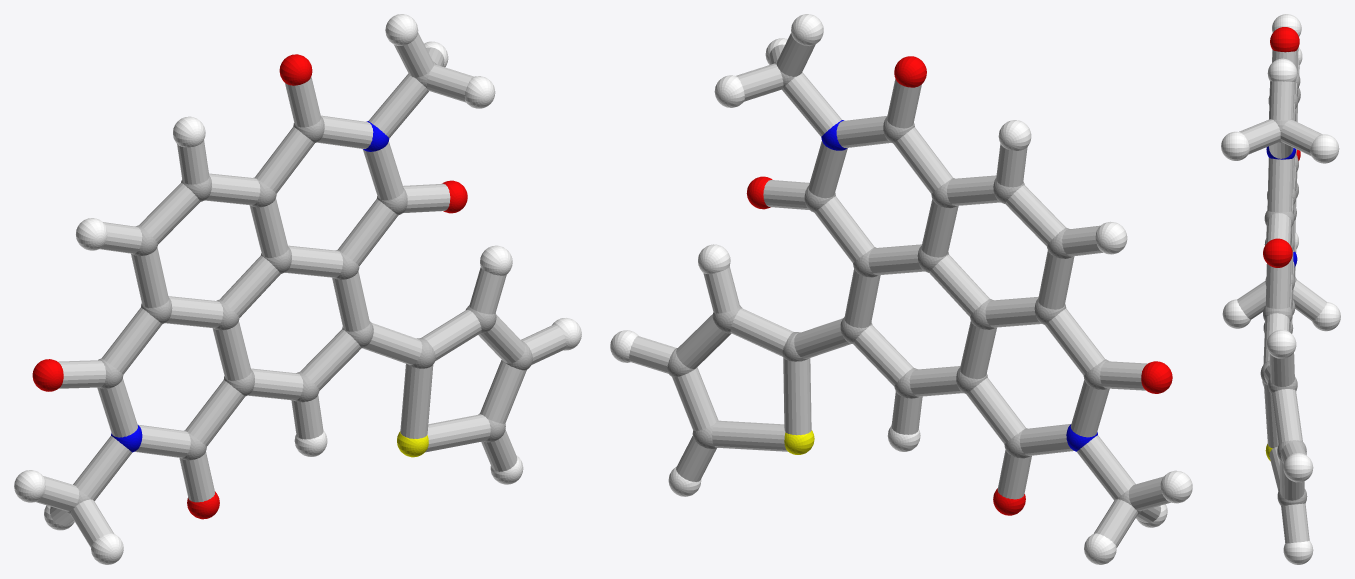
The model's file is Dimethyl_Naphthalene_Dicarboximide_Phi_10_Theta_0_Thiophene.glb.
3 views of the same model, side by side, from view 1: azimuth 30°, elevation 25°; view 2: azimuth 150°, elevation 25°; view 3: azimuth 270°, elevation 25° (orthographic). The views are drawn at different scales.
Visible parts, largest first — view 1: grp14119, grp7241, grp1, grp12309, grp11585; view 2: grp14119, grp7241, grp1, grp12309, grp11585; view 3: grp14119, grp7241, grp1, grp12309, grp11585.
Part boxes in pixels (left/top/right/bottom): grp14119: left=36, top=32, right=566, bottom=547; grp7241: left=14, top=14, right=581, bottom=564; grp1: left=65, top=61, right=532, bottom=514; grp12309: left=32, top=54, right=467, bottom=519; grp11585: left=111, top=121, right=389, bottom=452; grp14119: left=629, top=33, right=1170, bottom=547; grp7241: left=610, top=14, right=1192, bottom=564; grp1: left=667, top=60, right=1142, bottom=514; grp12309: left=746, top=56, right=1172, bottom=515; grp11585: left=821, top=120, right=1097, bottom=451; grp14119: left=1237, top=47, right=1326, bottom=543; grp7241: left=1221, top=14, right=1340, bottom=564; grp1: left=1260, top=73, right=1307, bottom=505; grp12309: left=1263, top=27, right=1300, bottom=267; grp11585: left=1266, top=146, right=1297, bottom=267.
Bounding box in the file's own units: 12.04 × 10.11 × 2.42.
